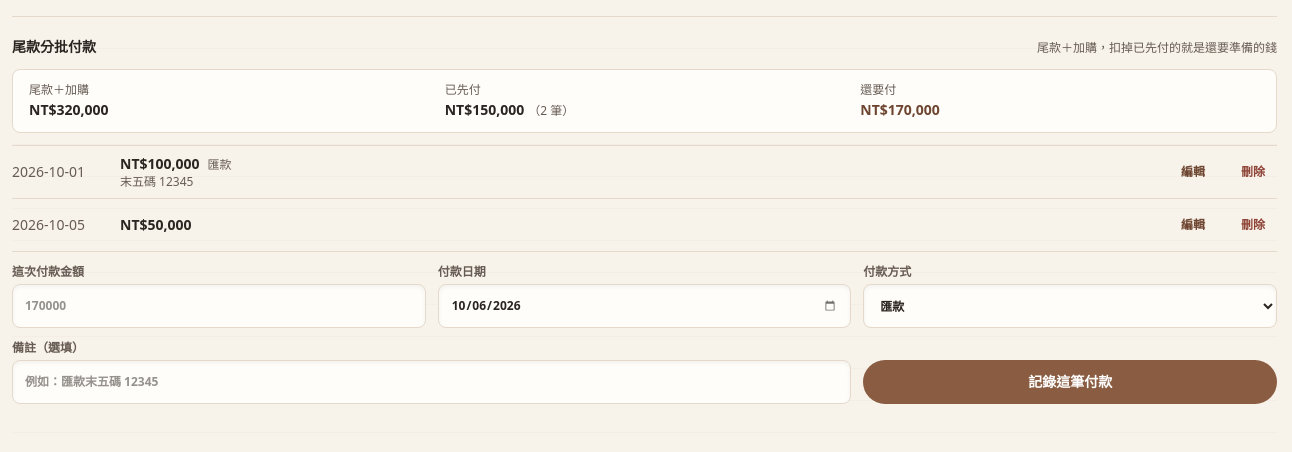
Scenario: BudgetPayments › 送出付款表單時帶項目版本
Type "70000" into the field labelled "這次付款金額" at (219, 306), box [12,284,426,328]
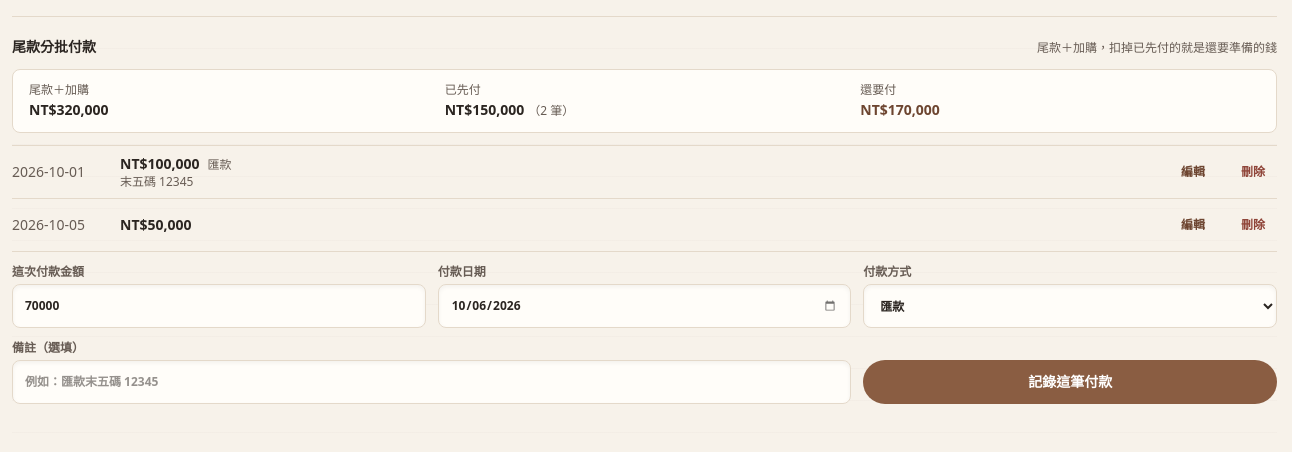
Click the button "記錄這筆付款" at (1070, 382), box [863,360,1277,404]
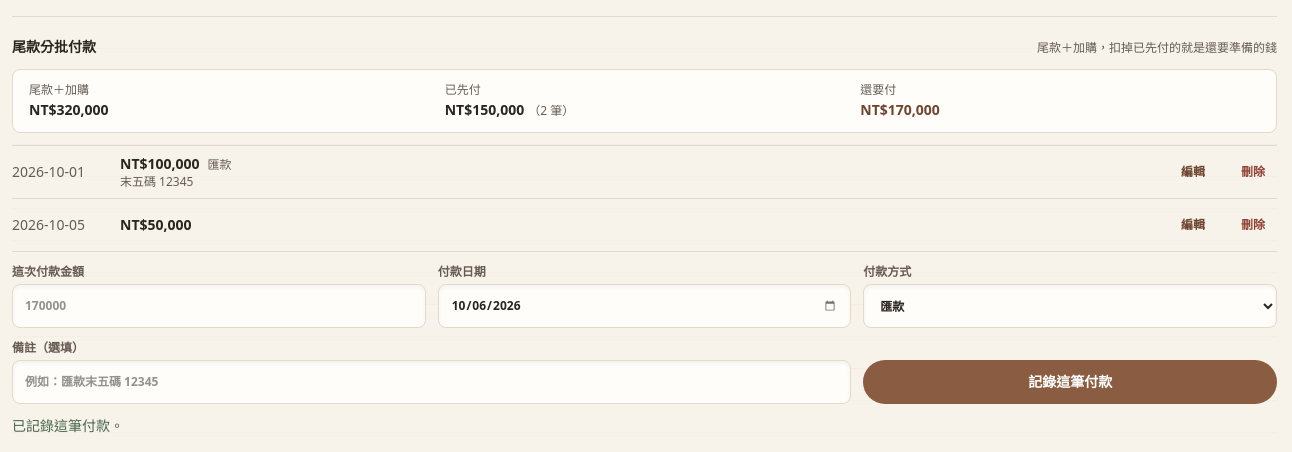
expect the text "已記錄這筆付款。" is shown: met, box [12,416,124,435]
